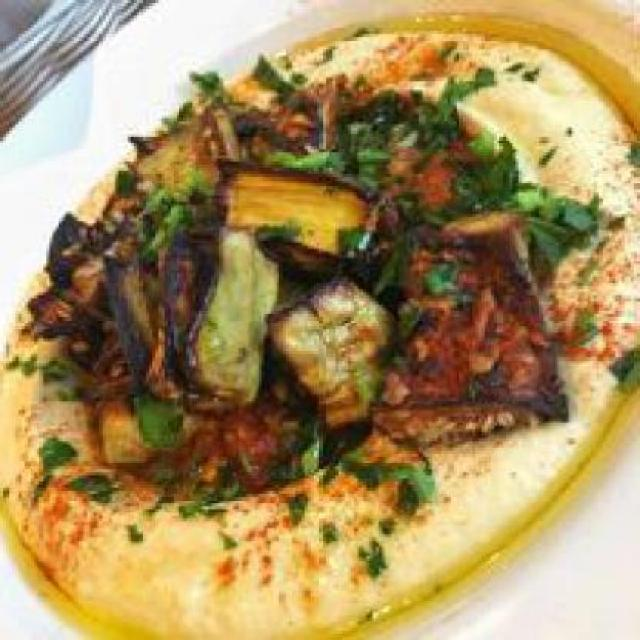eggplant: (69, 118, 528, 482)
hummus: (3, 18, 637, 634)
